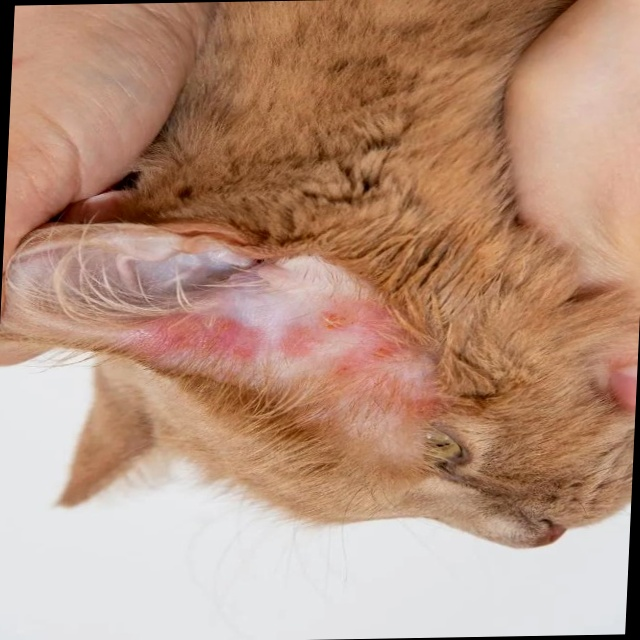ringworm: (177, 305, 438, 429)
